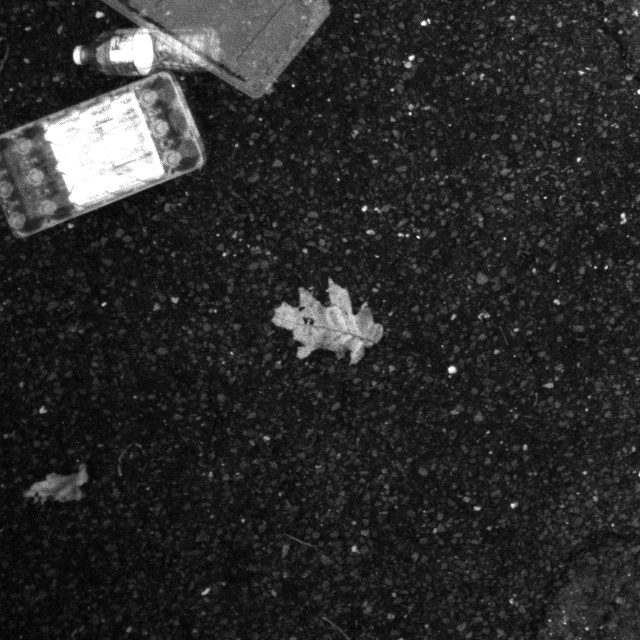bottle: (75, 4, 229, 79)
container: (94, 0, 420, 115), (0, 75, 218, 241)
